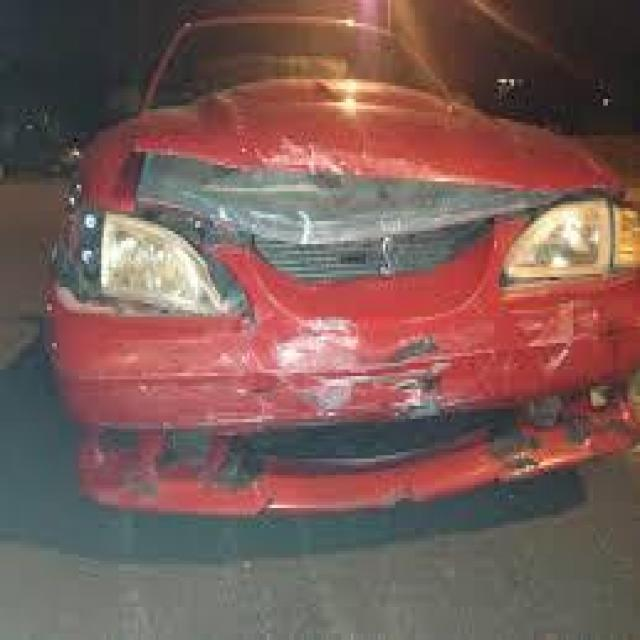damaged: (126, 300, 613, 495), (128, 138, 532, 234)
